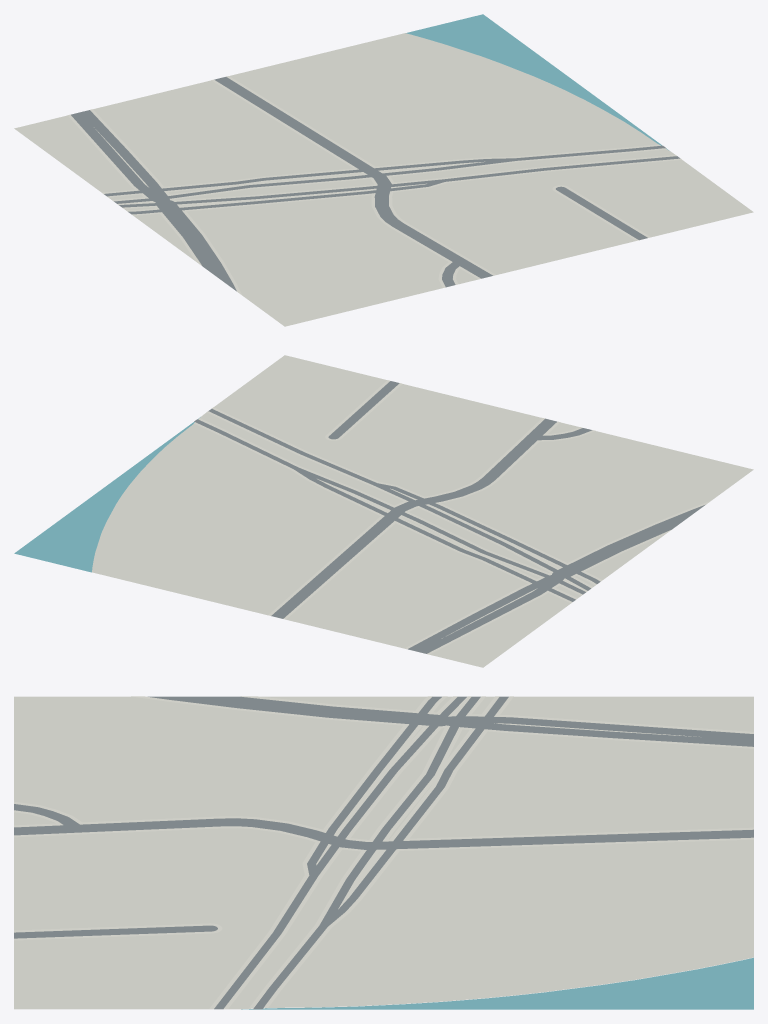
3 renders of one model, top to bottom at view 1: azimuth 30°, elevation 25°; view 2: azimuth 150°, elevation 25°; view 3: azimuth 270°, elevation 25°, orthographic. The views are drawn at different scales.
Parts seen in each view (by area): view 1: city; view 2: city; view 3: city.
Boxes of the visible parts, bbox=[...] form: city: bbox=[14, 14, 753, 326]; city: bbox=[14, 355, 753, 667]; city: bbox=[14, 696, 753, 1009].
Size of the model in its own units: 500 by 0.4 by 500.
